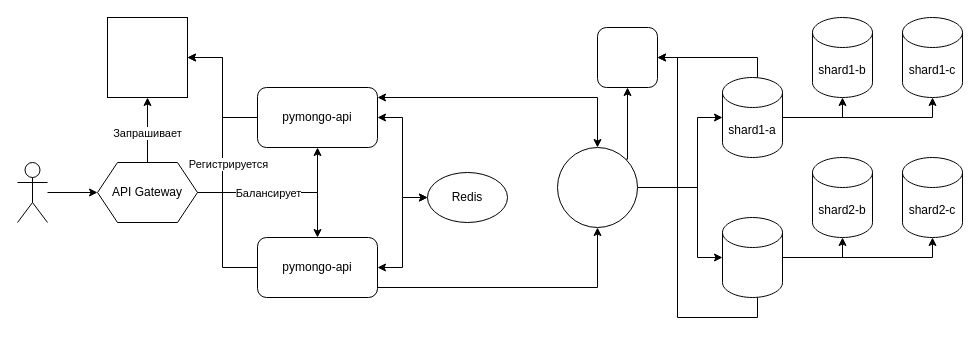
Some shapes in this 980 by 343 pixel diagram are drawn without their labels. The centre of each missing label's shape, as x and y in pixels:
"Client" goes at point (32, 192).
"configSrv" goes at point (627, 57).
"Consul" goes at point (147, 57).
"Mongos" goes at point (597, 187).
"shard2-a" goes at point (752, 257).
